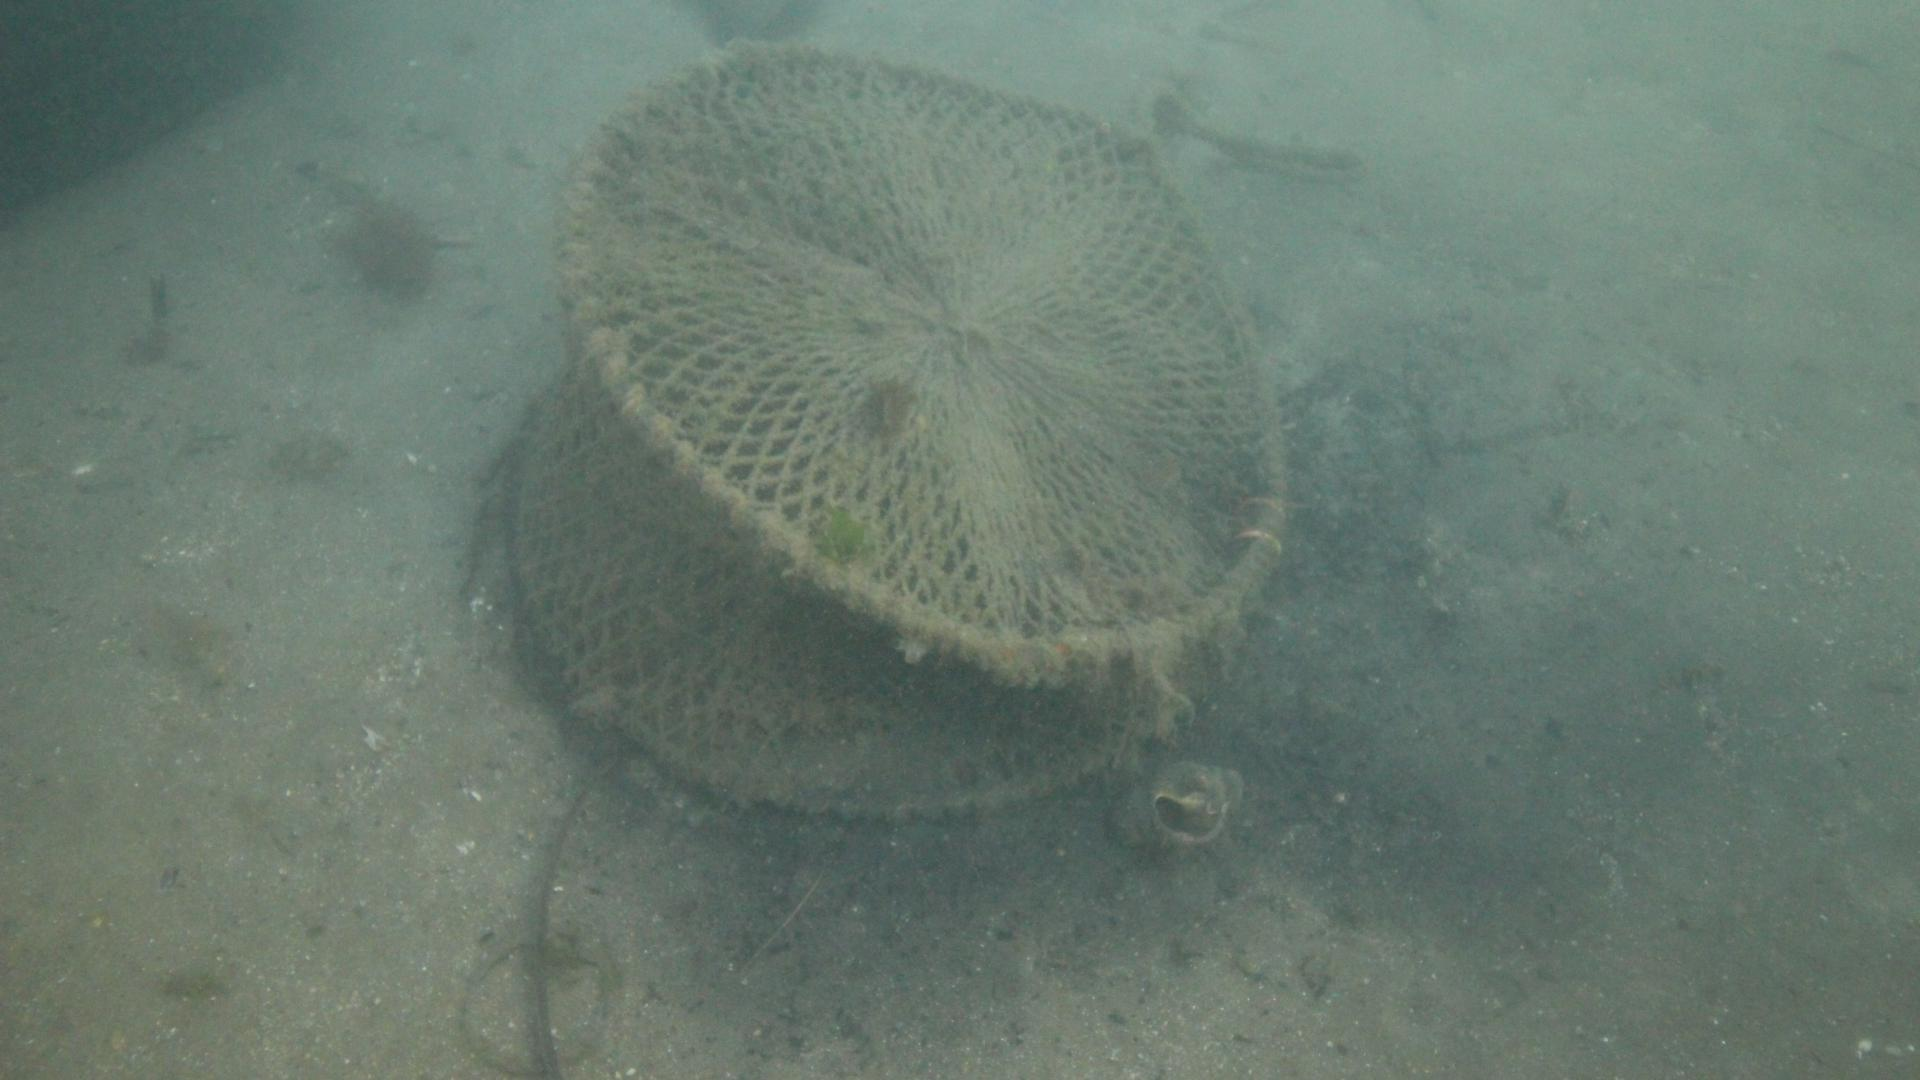circular fish trap: (506, 40, 1280, 823)
rope: (1149, 87, 1367, 175)
